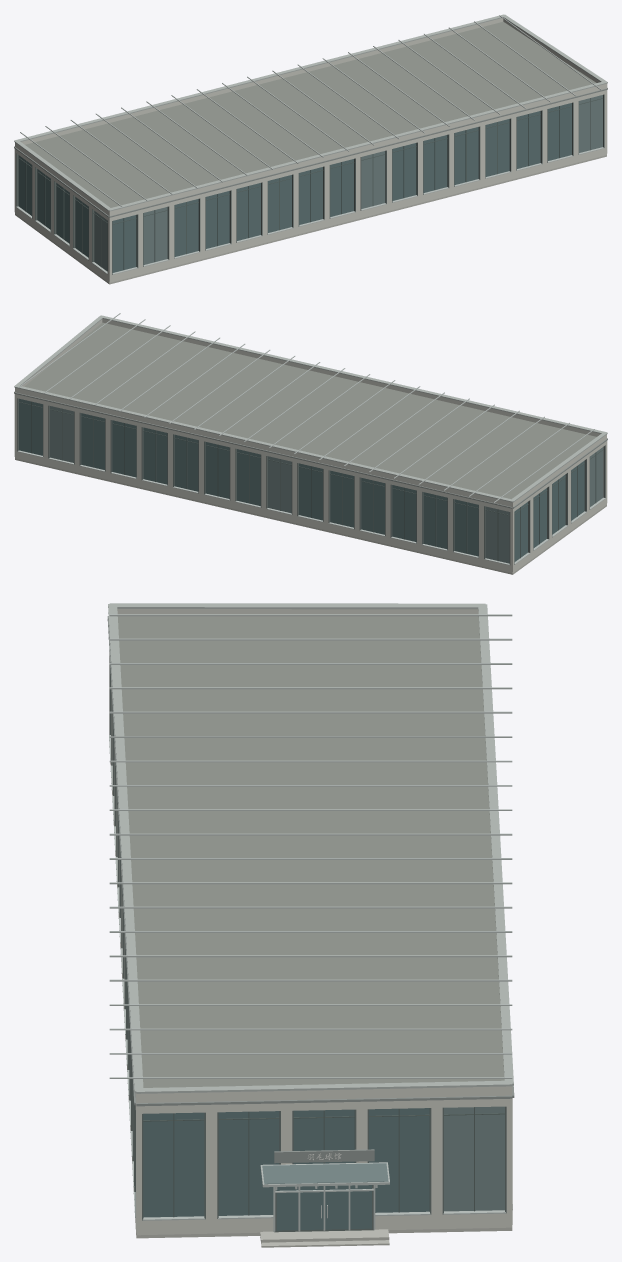
The model's file is south_badminton_hall.glb.
3 renders of one model, top to bottom at view 1: azimuth 30°, elevation 25°; view 2: azimuth 150°, elevation 25°; view 3: azimuth 270°, elevation 25°, orthographic. The views are drawn at different scales.
Visible parts, largest first — view 1: south_badminton_hall_FacultyRoof, south_badminton_hall_WindowGlass, south_badminton_hall_SportsHallIvory, south_badminton_hall_WindowAluminium, south_badminton_hall_Teaching5TileJoint, south_badminton_hall_WindowGlassLight, south_badminton_hall_WindowReveal, south_badminton_hall_WindowRubber, south_badminton_hall_FacultyDarkPanel, south_badminton_hall_EntryStone; view 2: south_badminton_hall_FacultyRoof, south_badminton_hall_WindowGlass, south_badminton_hall_SportsHallIvory, south_badminton_hall_WindowAluminium, south_badminton_hall_Teaching5TileJoint, south_badminton_hall_WindowGlassLight, south_badminton_hall_WindowReveal, south_badminton_hall_WindowRubber, south_badminton_hall_FacultyDarkPanel, south_badminton_hall_EntryStone; view 3: south_badminton_hall_FacultyRoof, south_badminton_hall_WindowGlass, south_badminton_hall_WindowAluminium, south_badminton_hall_SportsHallIvory, south_badminton_hall_Teaching5TileJoint, south_badminton_hall_WindowGlassLight, south_badminton_hall_WindowReveal, south_badminton_hall_FacultyDarkPanel, south_badminton_hall_EntryStone, south_badminton_hall_WindowRubber.
Part boxes in pixels (box(x1,y1,x2,y2)): south_badminton_hall_FacultyRoof: box(25, 21, 596, 207); south_badminton_hall_WindowGlass: box(18, 103, 571, 272); south_badminton_hall_SportsHallIvory: box(14, 18, 607, 282); south_badminton_hall_WindowAluminium: box(16, 15, 604, 274); south_badminton_hall_Teaching5TileJoint: box(14, 14, 607, 211); south_badminton_hall_WindowGlassLight: box(94, 95, 602, 271); south_badminton_hall_WindowReveal: box(16, 94, 604, 274); south_badminton_hall_WindowRubber: box(18, 98, 602, 269); south_badminton_hall_FacultyDarkPanel: box(14, 88, 607, 217); south_badminton_hall_EntryStone: box(15, 155, 606, 284); south_badminton_hall_FacultyRoof: box(24, 322, 596, 499); south_badminton_hall_WindowGlass: box(19, 398, 584, 561); south_badminton_hall_SportsHallIvory: box(14, 319, 607, 573); south_badminton_hall_WindowAluminium: box(17, 313, 605, 565); south_badminton_hall_Teaching5TileJoint: box(14, 315, 607, 502); south_badminton_hall_WindowGlassLight: box(50, 406, 603, 563); south_badminton_hall_WindowReveal: box(17, 398, 605, 564); south_badminton_hall_WindowRubber: box(19, 401, 603, 560); south_badminton_hall_FacultyDarkPanel: box(14, 391, 607, 508); south_badminton_hall_EntryStone: box(15, 458, 606, 574); south_badminton_hall_FacultyRoof: box(118, 616, 504, 1087); south_badminton_hall_WindowGlass: box(143, 1108, 429, 1230); south_badminton_hall_WindowAluminium: box(109, 614, 512, 1231); south_badminton_hall_SportsHallIvory: box(109, 609, 512, 1235); south_badminton_hall_Teaching5TileJoint: box(108, 603, 513, 1093); south_badminton_hall_WindowGlassLight: box(262, 1106, 504, 1211); south_badminton_hall_WindowReveal: box(109, 658, 506, 1232); south_badminton_hall_FacultyDarkPanel: box(107, 616, 514, 1163); south_badminton_hall_EntryStone: box(117, 886, 512, 1247); south_badminton_hall_WindowRubber: box(143, 1107, 504, 1217).
Size of the model in its own units: 61.98 by 8.5 by 21.07.
